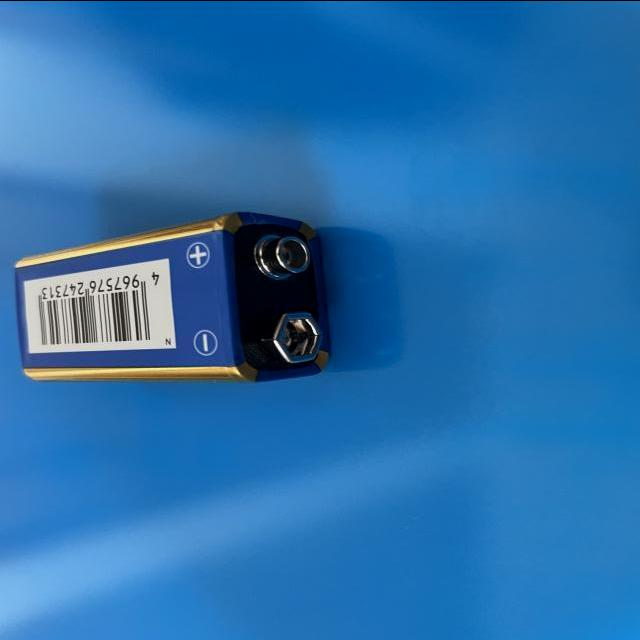9V: (13, 212, 334, 386)
